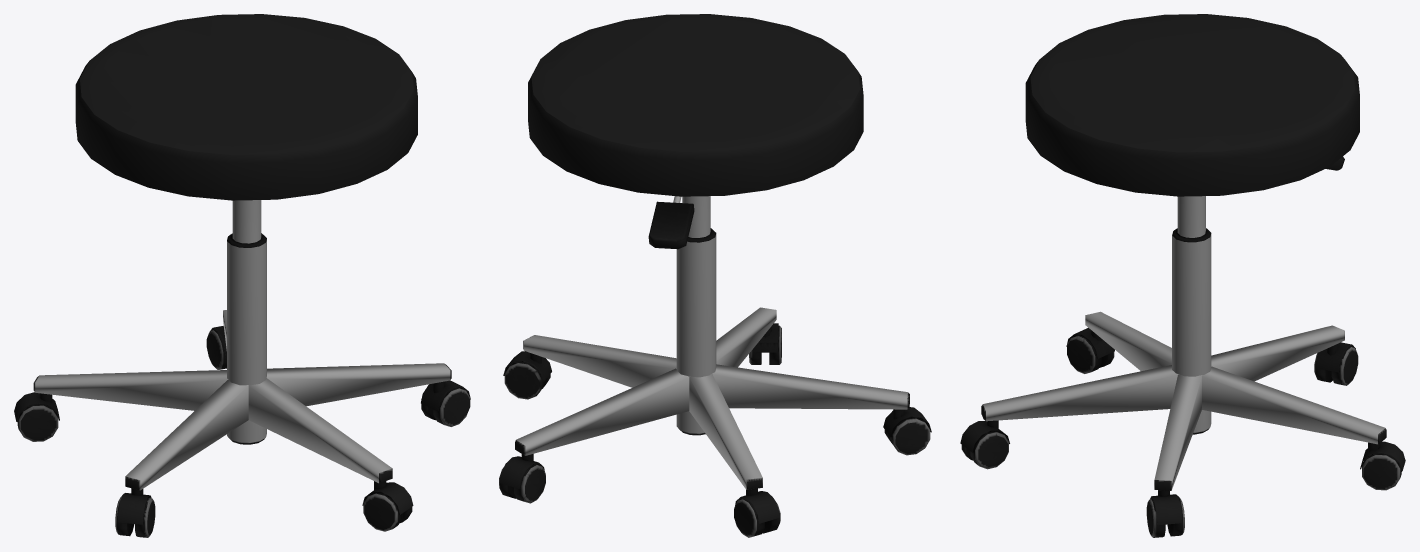
The model's file is chair.fbx.
3 views of the same model, side by side, from view 1: azimuth 30°, elevation 25°; view 2: azimuth 150°, elevation 25°; view 3: azimuth 270°, elevation 25° (orthographic). The views are drawn at different scales.
Parts seen in each view (by area): view 1: Mesh; view 2: Mesh; view 3: Mesh.
Boxes of the visible parts, x1,y1,x2,y2 form: Mesh: (14,14,470,537); Mesh: (499,14,931,537); Mesh: (960,14,1405,537).
Bounding box in the file's own units: 69.53 × 63.93 × 70.2.
